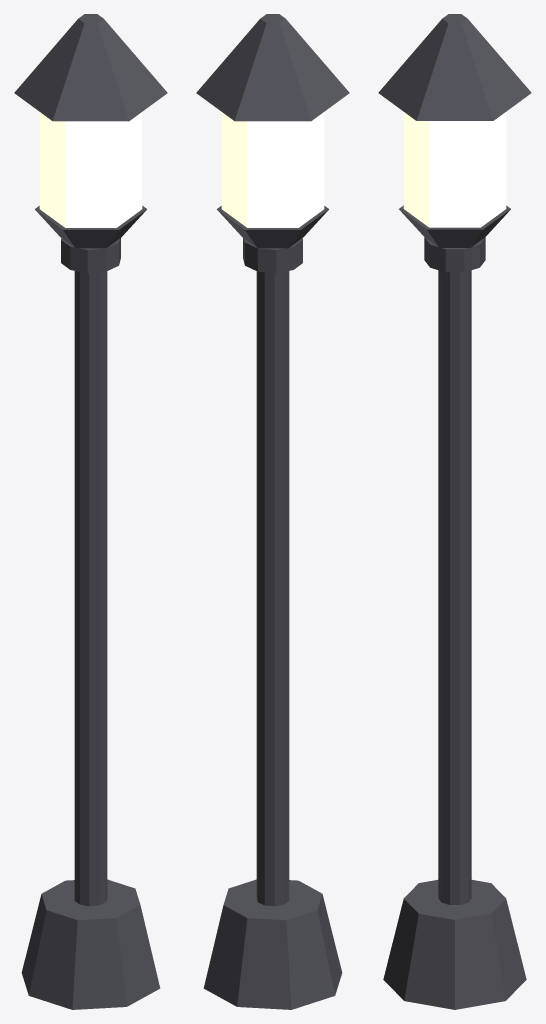
The model's file is lamp_post.gltf.
3 views of the same model, side by side, from view 1: azimuth 30°, elevation 25°; view 2: azimuth 150°, elevation 25°; view 3: azimuth 270°, elevation 25° (orthographic).
Visible parts, largest first — view 1: Post, Base, LanternGlass, LanternRoof, LanternBottom, Collar; view 2: Post, Base, LanternGlass, LanternRoof, LanternBottom, Collar; view 3: Post, Base, LanternGlass, LanternRoof, LanternBottom, Collar.
Boxes of the visible parts, x1,y1,x2,y2 form: Post: (74, 271, 107, 906); Base: (21, 879, 160, 1009); LanternGlass: (39, 112, 142, 227); LanternRoof: (14, 14, 167, 121); LanternBottom: (35, 206, 146, 248); Collar: (61, 238, 120, 273); Post: (256, 271, 289, 906); Base: (203, 879, 342, 1009); LanternGlass: (221, 112, 324, 227); LanternRoof: (196, 14, 349, 121); LanternBottom: (217, 206, 328, 248); Collar: (243, 238, 302, 273); Post: (438, 270, 471, 904); Base: (383, 880, 526, 1009); LanternGlass: (403, 112, 506, 227); LanternRoof: (378, 14, 531, 120); LanternBottom: (399, 205, 510, 247); Collar: (424, 237, 485, 272).
Size of what is drawn, in the model's own units: 0.56 by 4.14 by 0.6.
